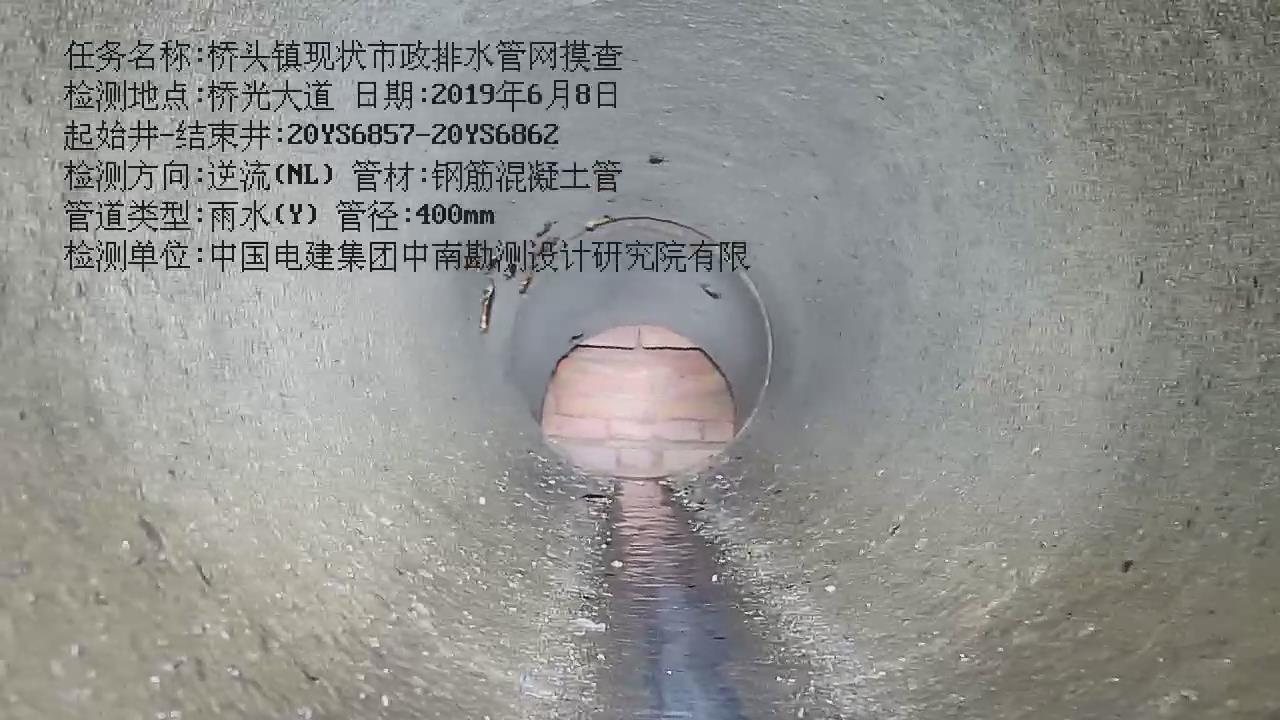CQBG: (541, 325, 738, 477)
